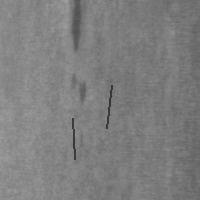inclusion: (64, 1, 84, 53), (66, 70, 89, 107), (104, 83, 113, 130), (70, 116, 76, 161)
